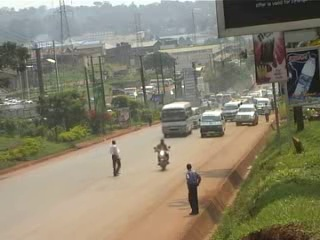Car: (234, 102, 260, 127)
Motorcycle: (152, 145, 173, 170)
